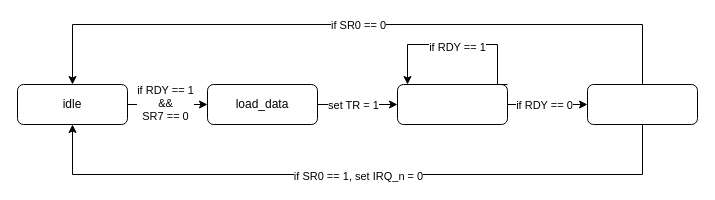
Image size: 715x200. Some labels were removed from this diagram. The shapes that lost their labels are listed below. From the top down, each one's centre as x and y in pixels, then its label:
At [452,104]: "transfering".
At [642,104]: "done".
